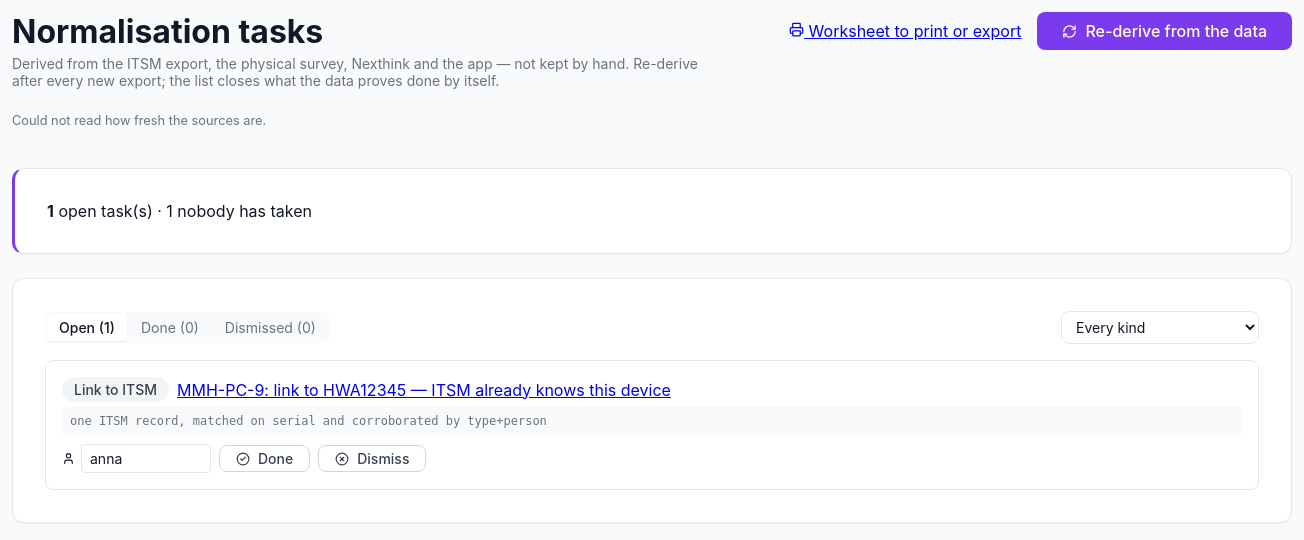
Test: NormalisationTasks › puts back the stored assignee on Escape
This screenshot has width=1304, height=540.
Replace the text in the field named "Assign this task" with "someone else". click: (146, 458)
box: [81,444,211,473]
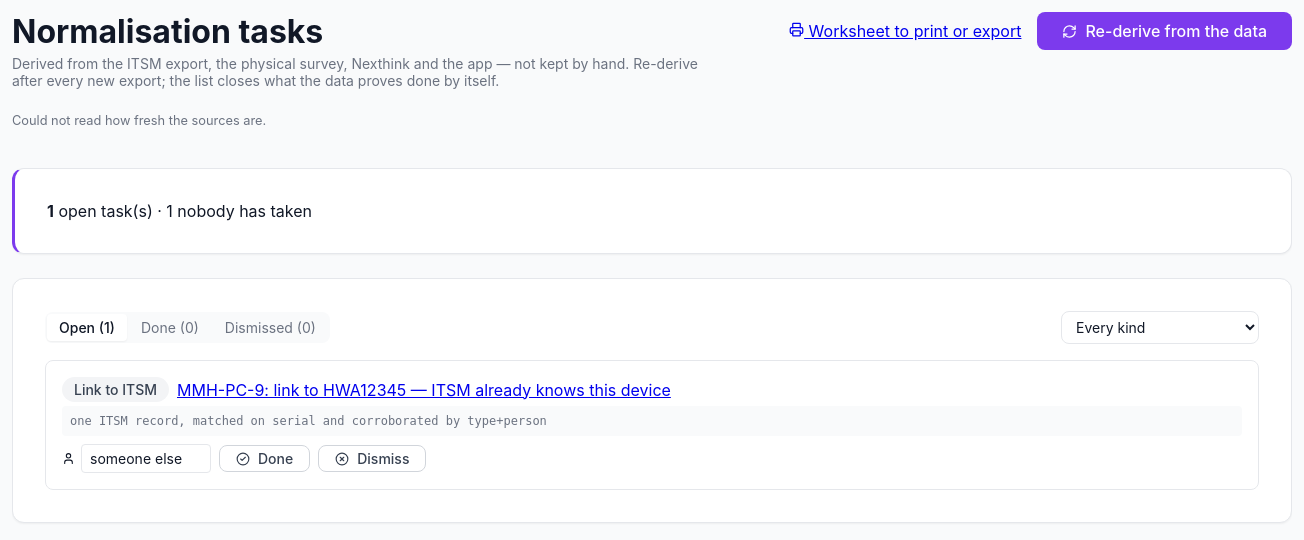
Press Escape in the field named "Assign this task", box [81,444,211,473]
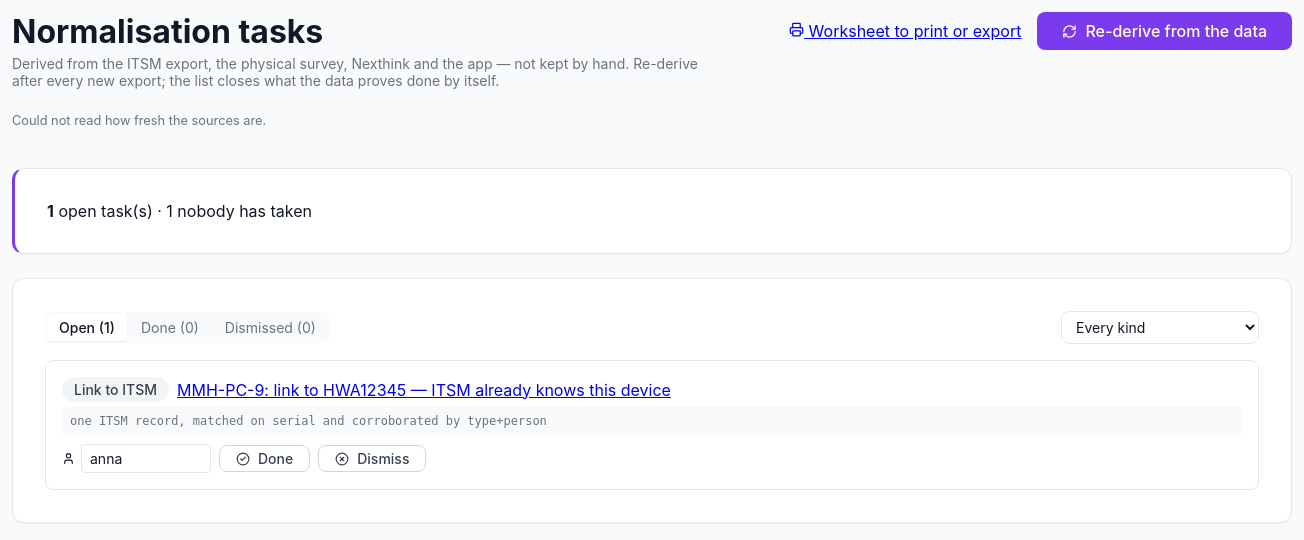
Check: the field named "Assign this task" holds "anna", box [81,444,211,473]
